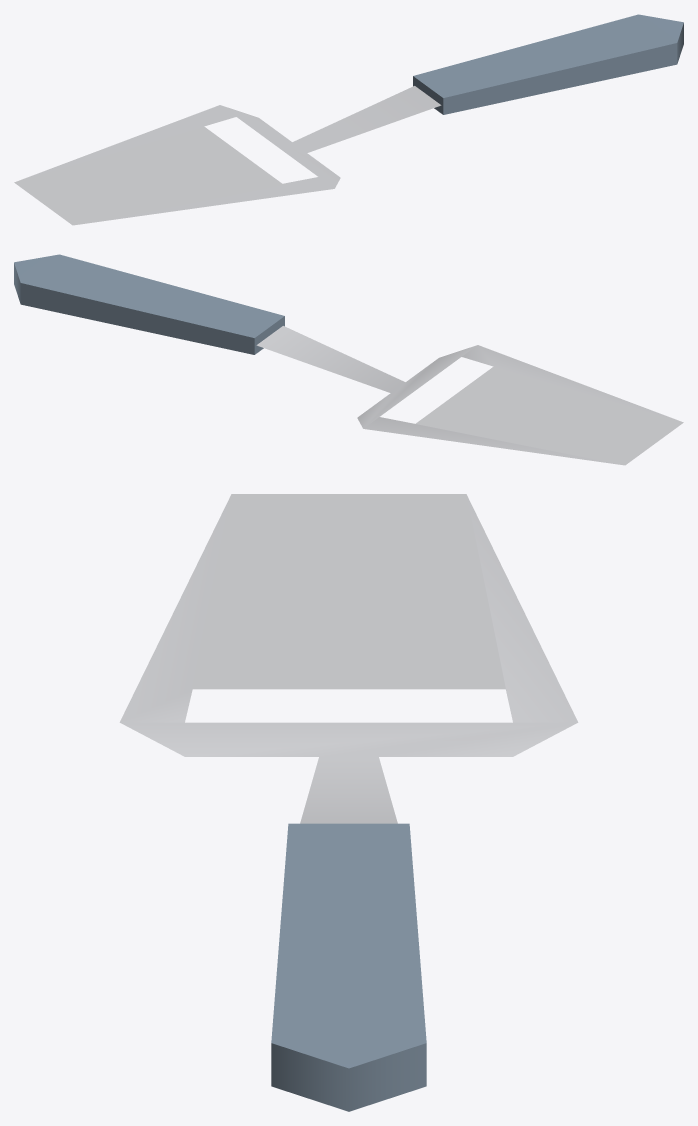
The model's file is Cheese Slicer.glb.
The picture shows the model from 3 angles, top to bottom: view 1: azimuth 30°, elevation 25°; view 2: azimuth 150°, elevation 25°; view 3: azimuth 270°, elevation 25°; orthographic projection. The views are drawn at different scales.
Parts seen in each view (by area): view 1: Cheese Slicer; view 2: Cheese Slicer; view 3: Cheese Slicer.
Boxes of the visible parts, x1,y1,x2,y2 form: Cheese Slicer: (14, 14, 683, 225); Cheese Slicer: (14, 254, 683, 465); Cheese Slicer: (119, 494, 578, 1111).
Size of the model in its own units: 0.6184 by 0.0292 by 0.1918.
